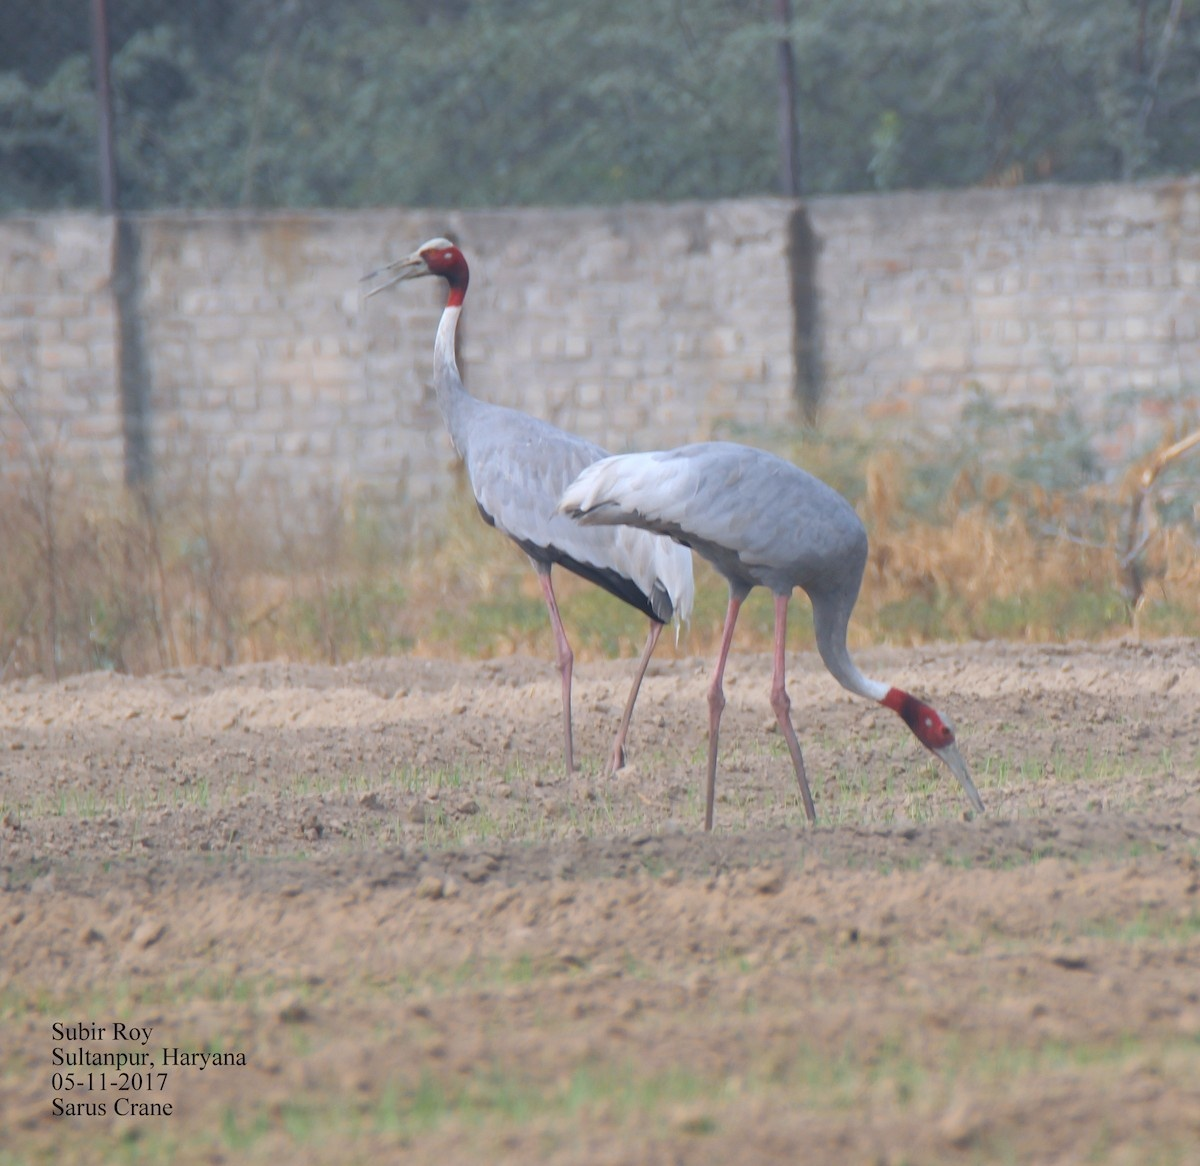crane: (562, 427, 1003, 859), (359, 231, 691, 788)
